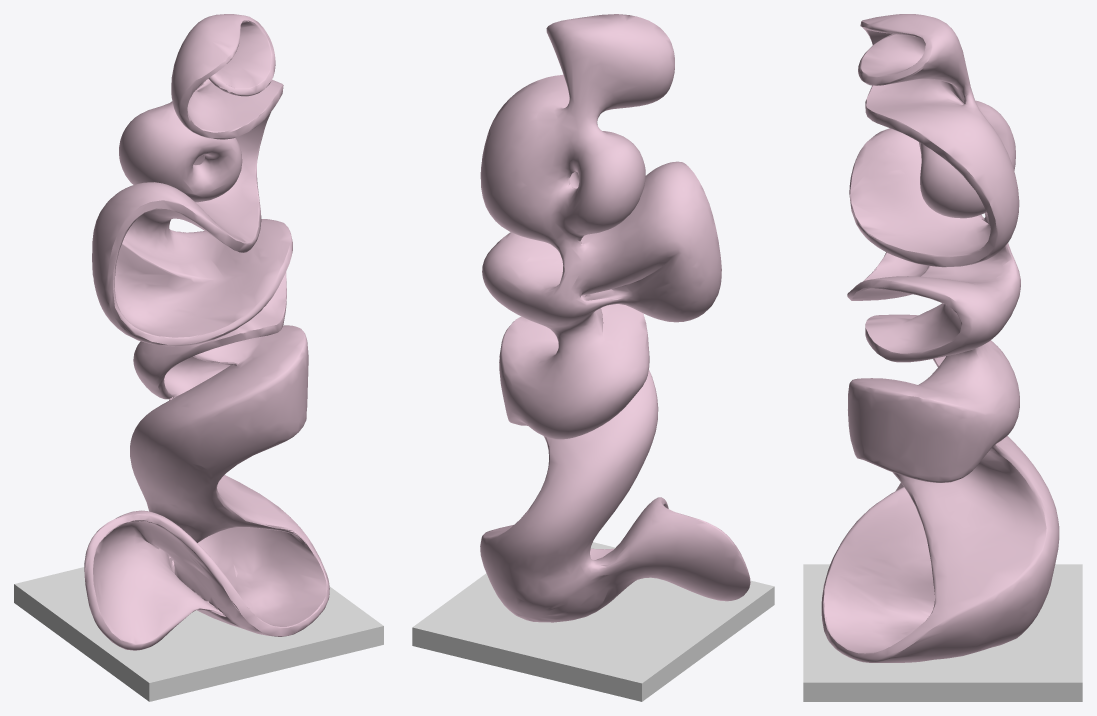
3 views of the same model, side by side, from view 1: azimuth 30°, elevation 25°; view 2: azimuth 150°, elevation 25°; view 3: azimuth 270°, elevation 25° (orthographic). The views are drawn at different scales.
Parts seen in each view (by area): view 1: node_0, Cube; view 2: node_0, Cube; view 3: node_0, Cube.
Boxes of the visible parts, <box> form: node_0: <box>84,14,329,650</box>; Cube: <box>14,567,383,701</box>; node_0: <box>480,14,750,622</box>; Cube: <box>412,542,774,701</box>; node_0: <box>821,14,1059,662</box>; Cube: <box>803,564,1082,701</box>.
Bounding box in the file's own units: 0.5057 × 1.17 × 0.4724.
